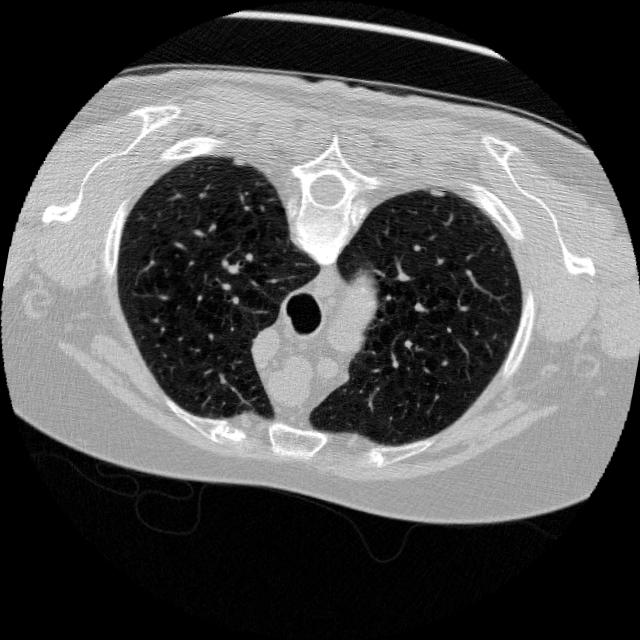nodule: (419, 178, 448, 208)
